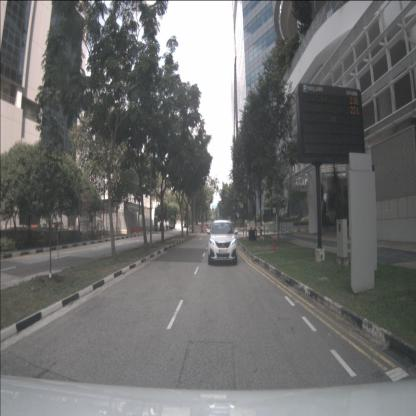human-pedestrian-adult: (94, 223, 97, 236)
movable_object-barrier: (188, 224, 195, 233), (194, 225, 200, 233), (201, 225, 206, 233)
vehicle-car: (208, 219, 238, 266)
